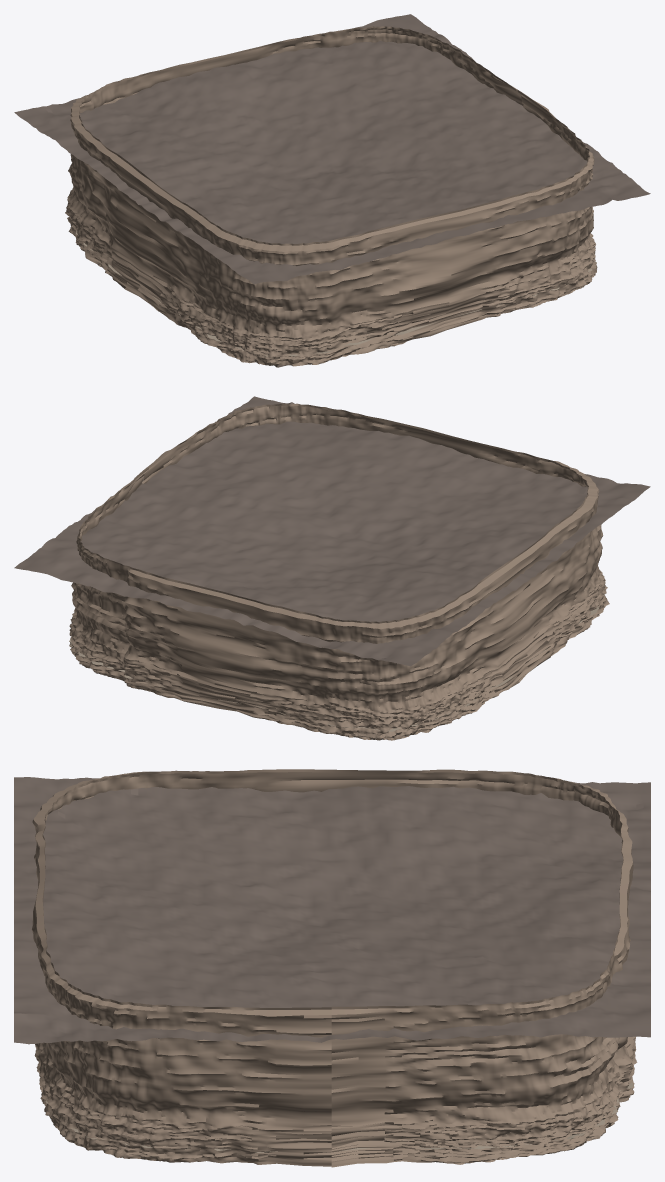
Rendered from aq002_geology_a.glb.
The picture shows the model from 3 angles, top to bottom: view 1: azimuth 30°, elevation 25°; view 2: azimuth 150°, elevation 25°; view 3: azimuth 270°, elevation 25°; orthographic projection. The views are drawn at different scales.
Parts seen in each view (by area): view 1: Geology_Ceiling, Geology_Wall; view 2: Geology_Ceiling, Geology_Wall; view 3: Geology_Ceiling, Geology_Wall.
Part boxes in pixels (box(x1,y1,x2,y2)): Geology_Ceiling: box(14, 14, 650, 284); Geology_Wall: box(65, 26, 597, 366); Geology_Ceiling: box(14, 396, 650, 666); Geology_Wall: box(69, 403, 609, 740); Geology_Ceiling: box(14, 777, 650, 1044); Geology_Wall: box(32, 769, 637, 1167).
Bounding box in the file's own units: 45.65 × 15.78 × 47.85.
